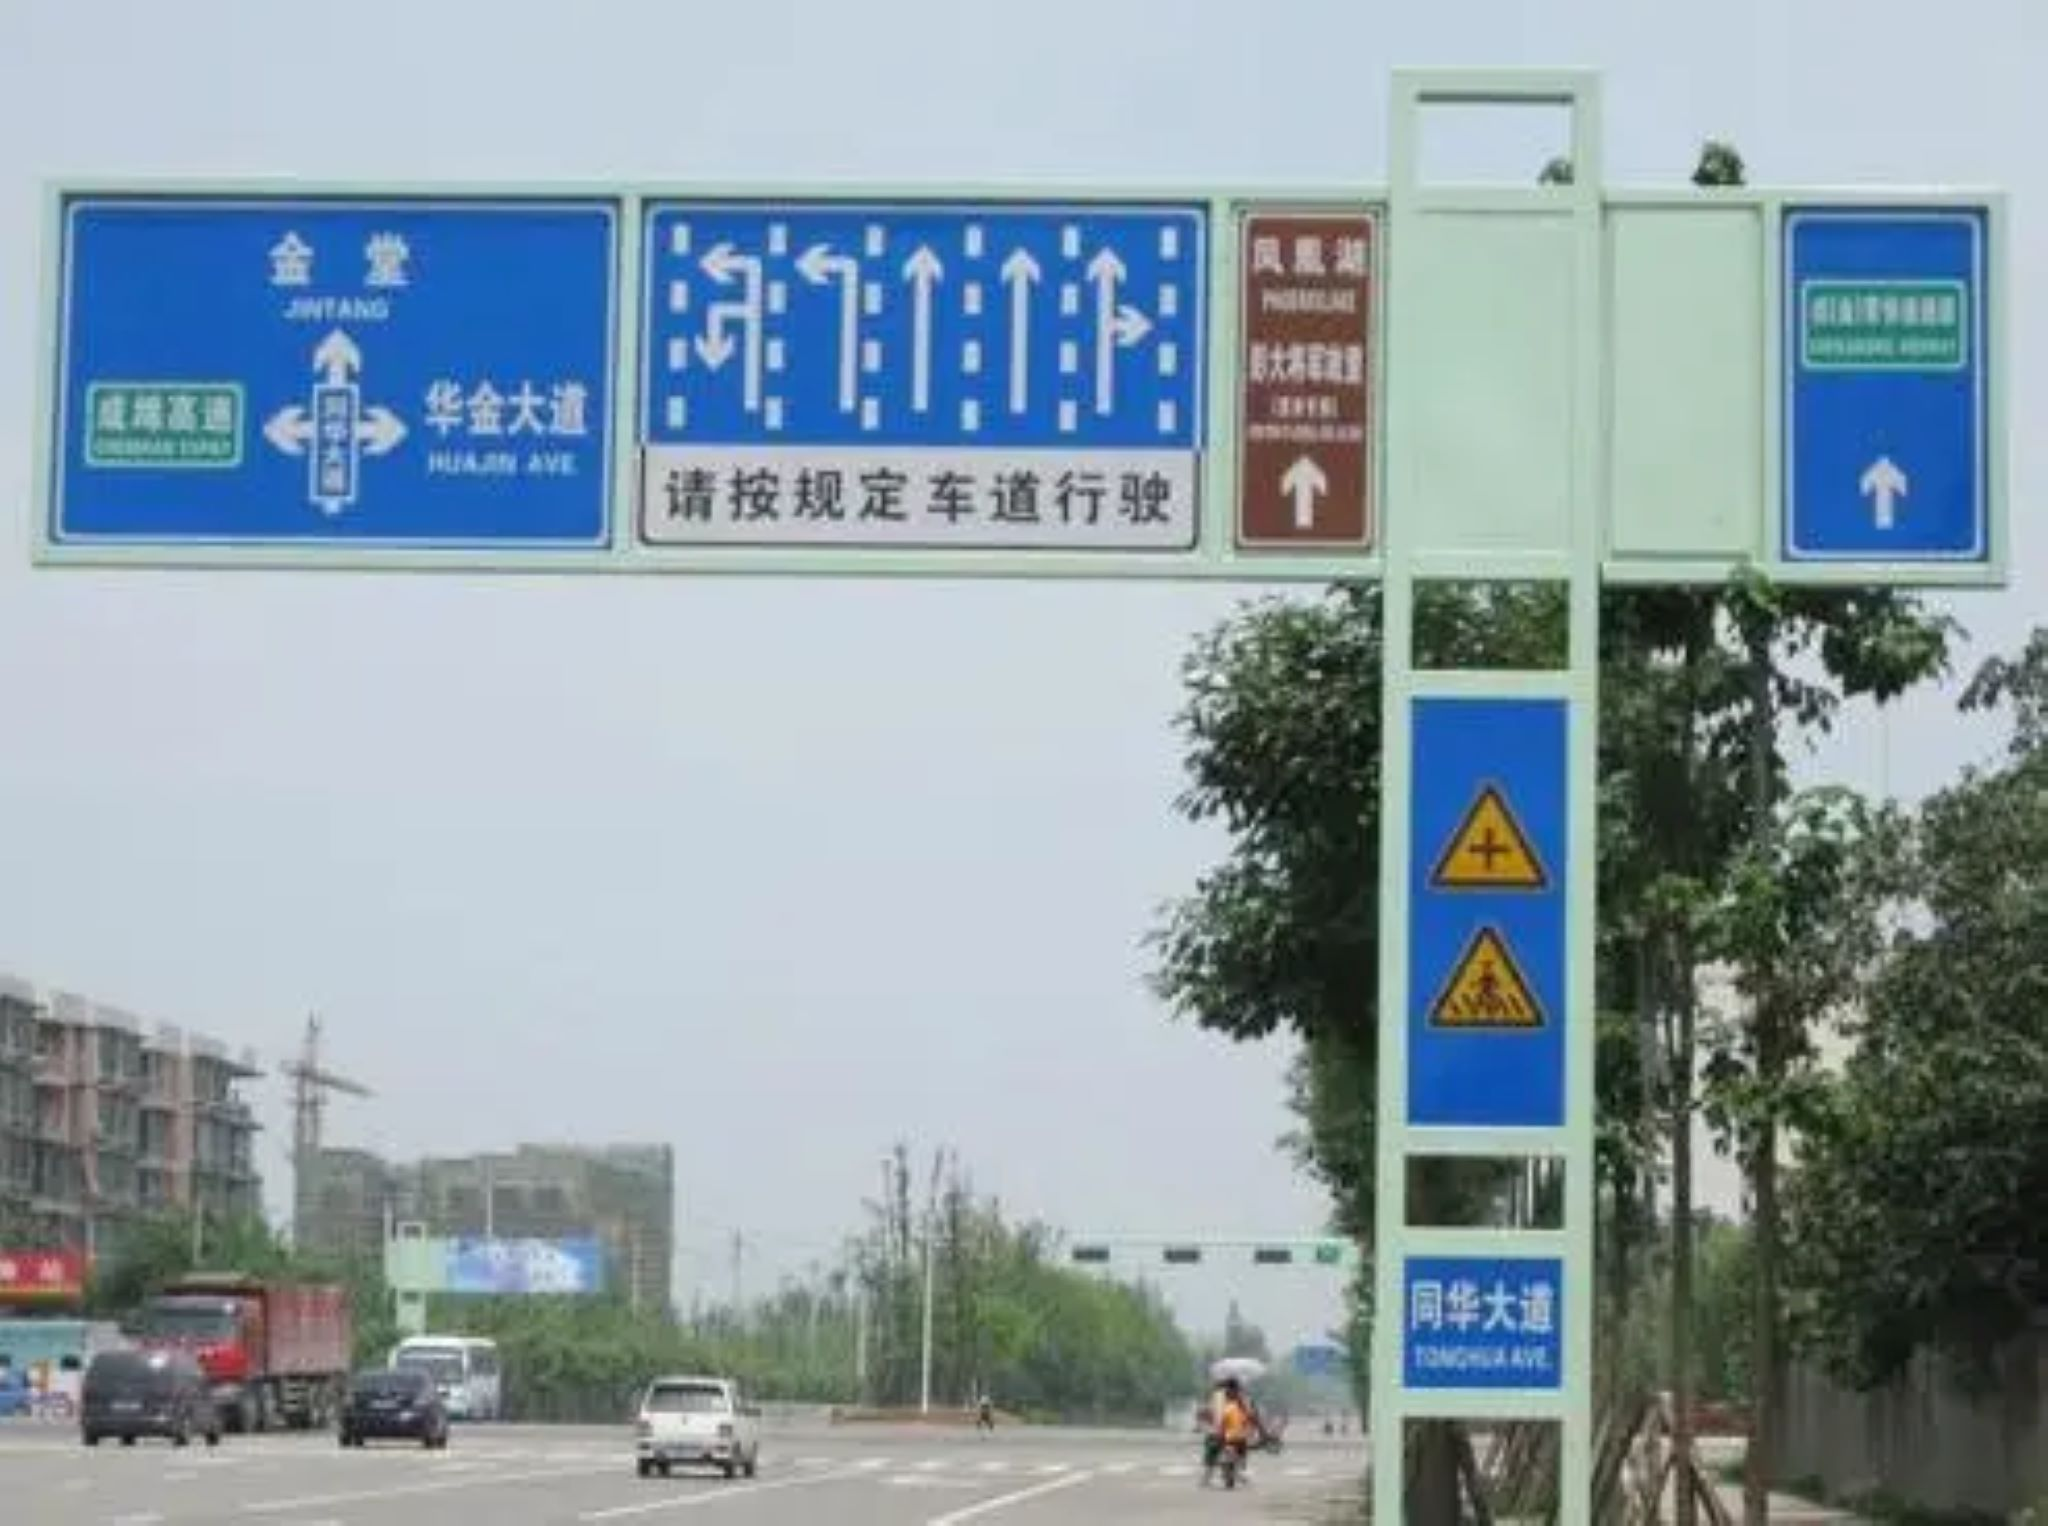w13: (1441, 773, 1548, 893)
w57: (1437, 926, 1542, 1024)
